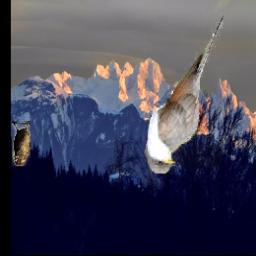Cuckoo: (145, 14, 224, 176)
Sparrow: (13, 122, 32, 167)
